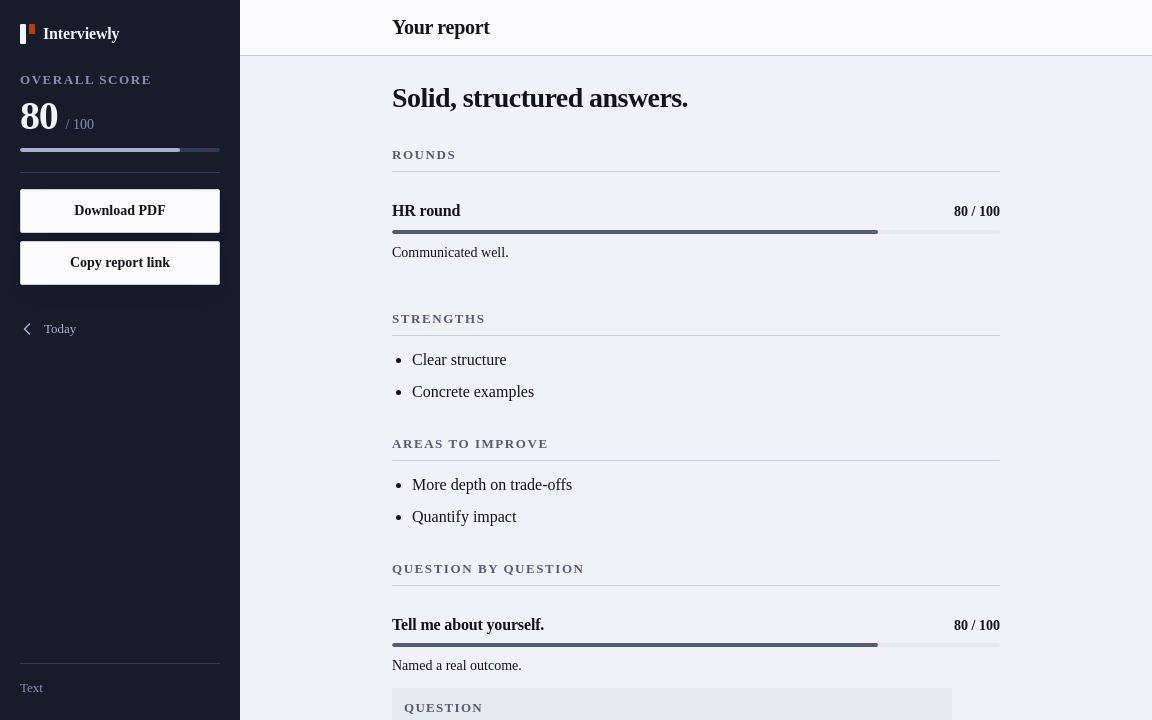
Test: report + transcript (W07) › shows an inline generic error for any other download failure
Click the button with test id "report-download" at (120, 211), box left=20, top=189, right=220, bottom=233
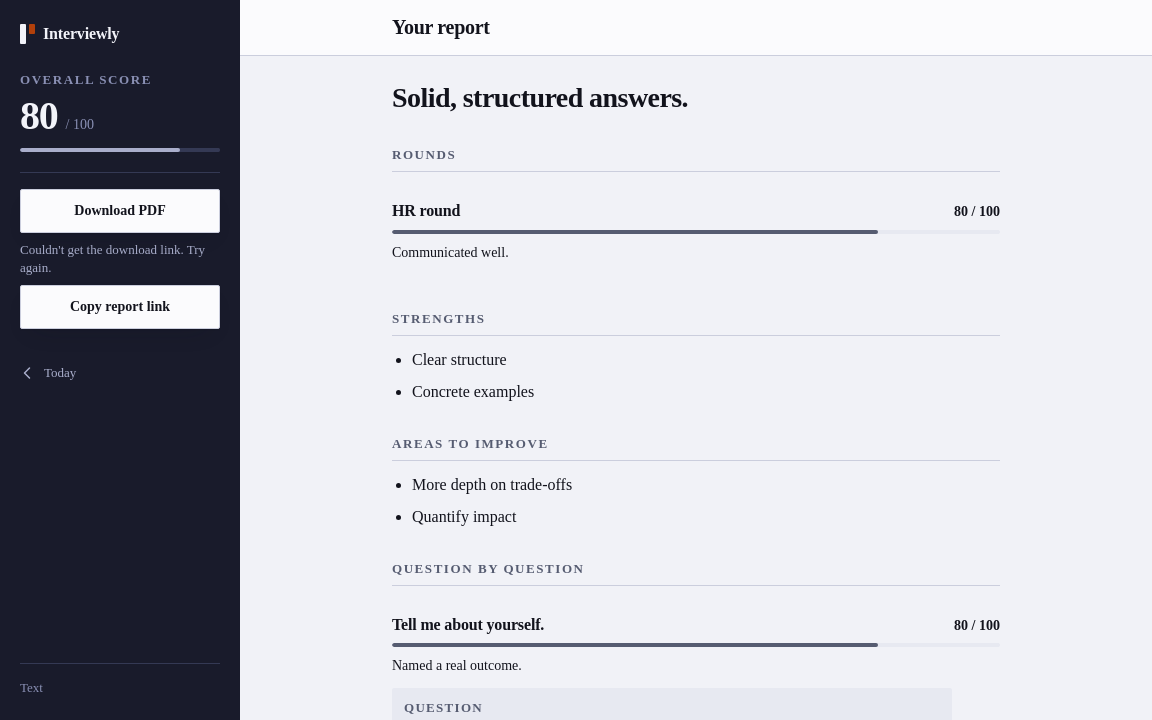
Expected: the message with test id "report-download-error" reads "Couldn't get the download link. Try again.", left=20, top=242, right=205, bottom=275
